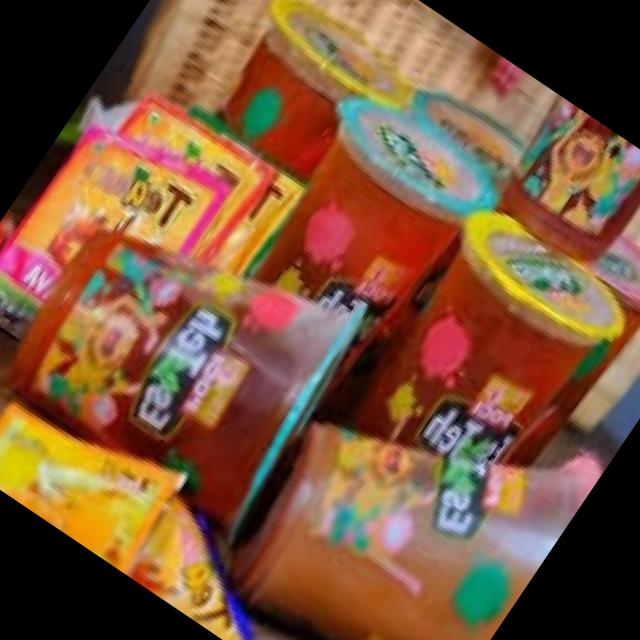GelasPlastik: (0, 144, 389, 547), (221, 319, 608, 640)
